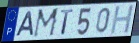0: (95, 7, 112, 35)
5: (76, 7, 93, 37)
A: (15, 10, 35, 38)
H: (109, 4, 136, 36)
M: (32, 8, 61, 39)
T: (60, 9, 75, 36)
